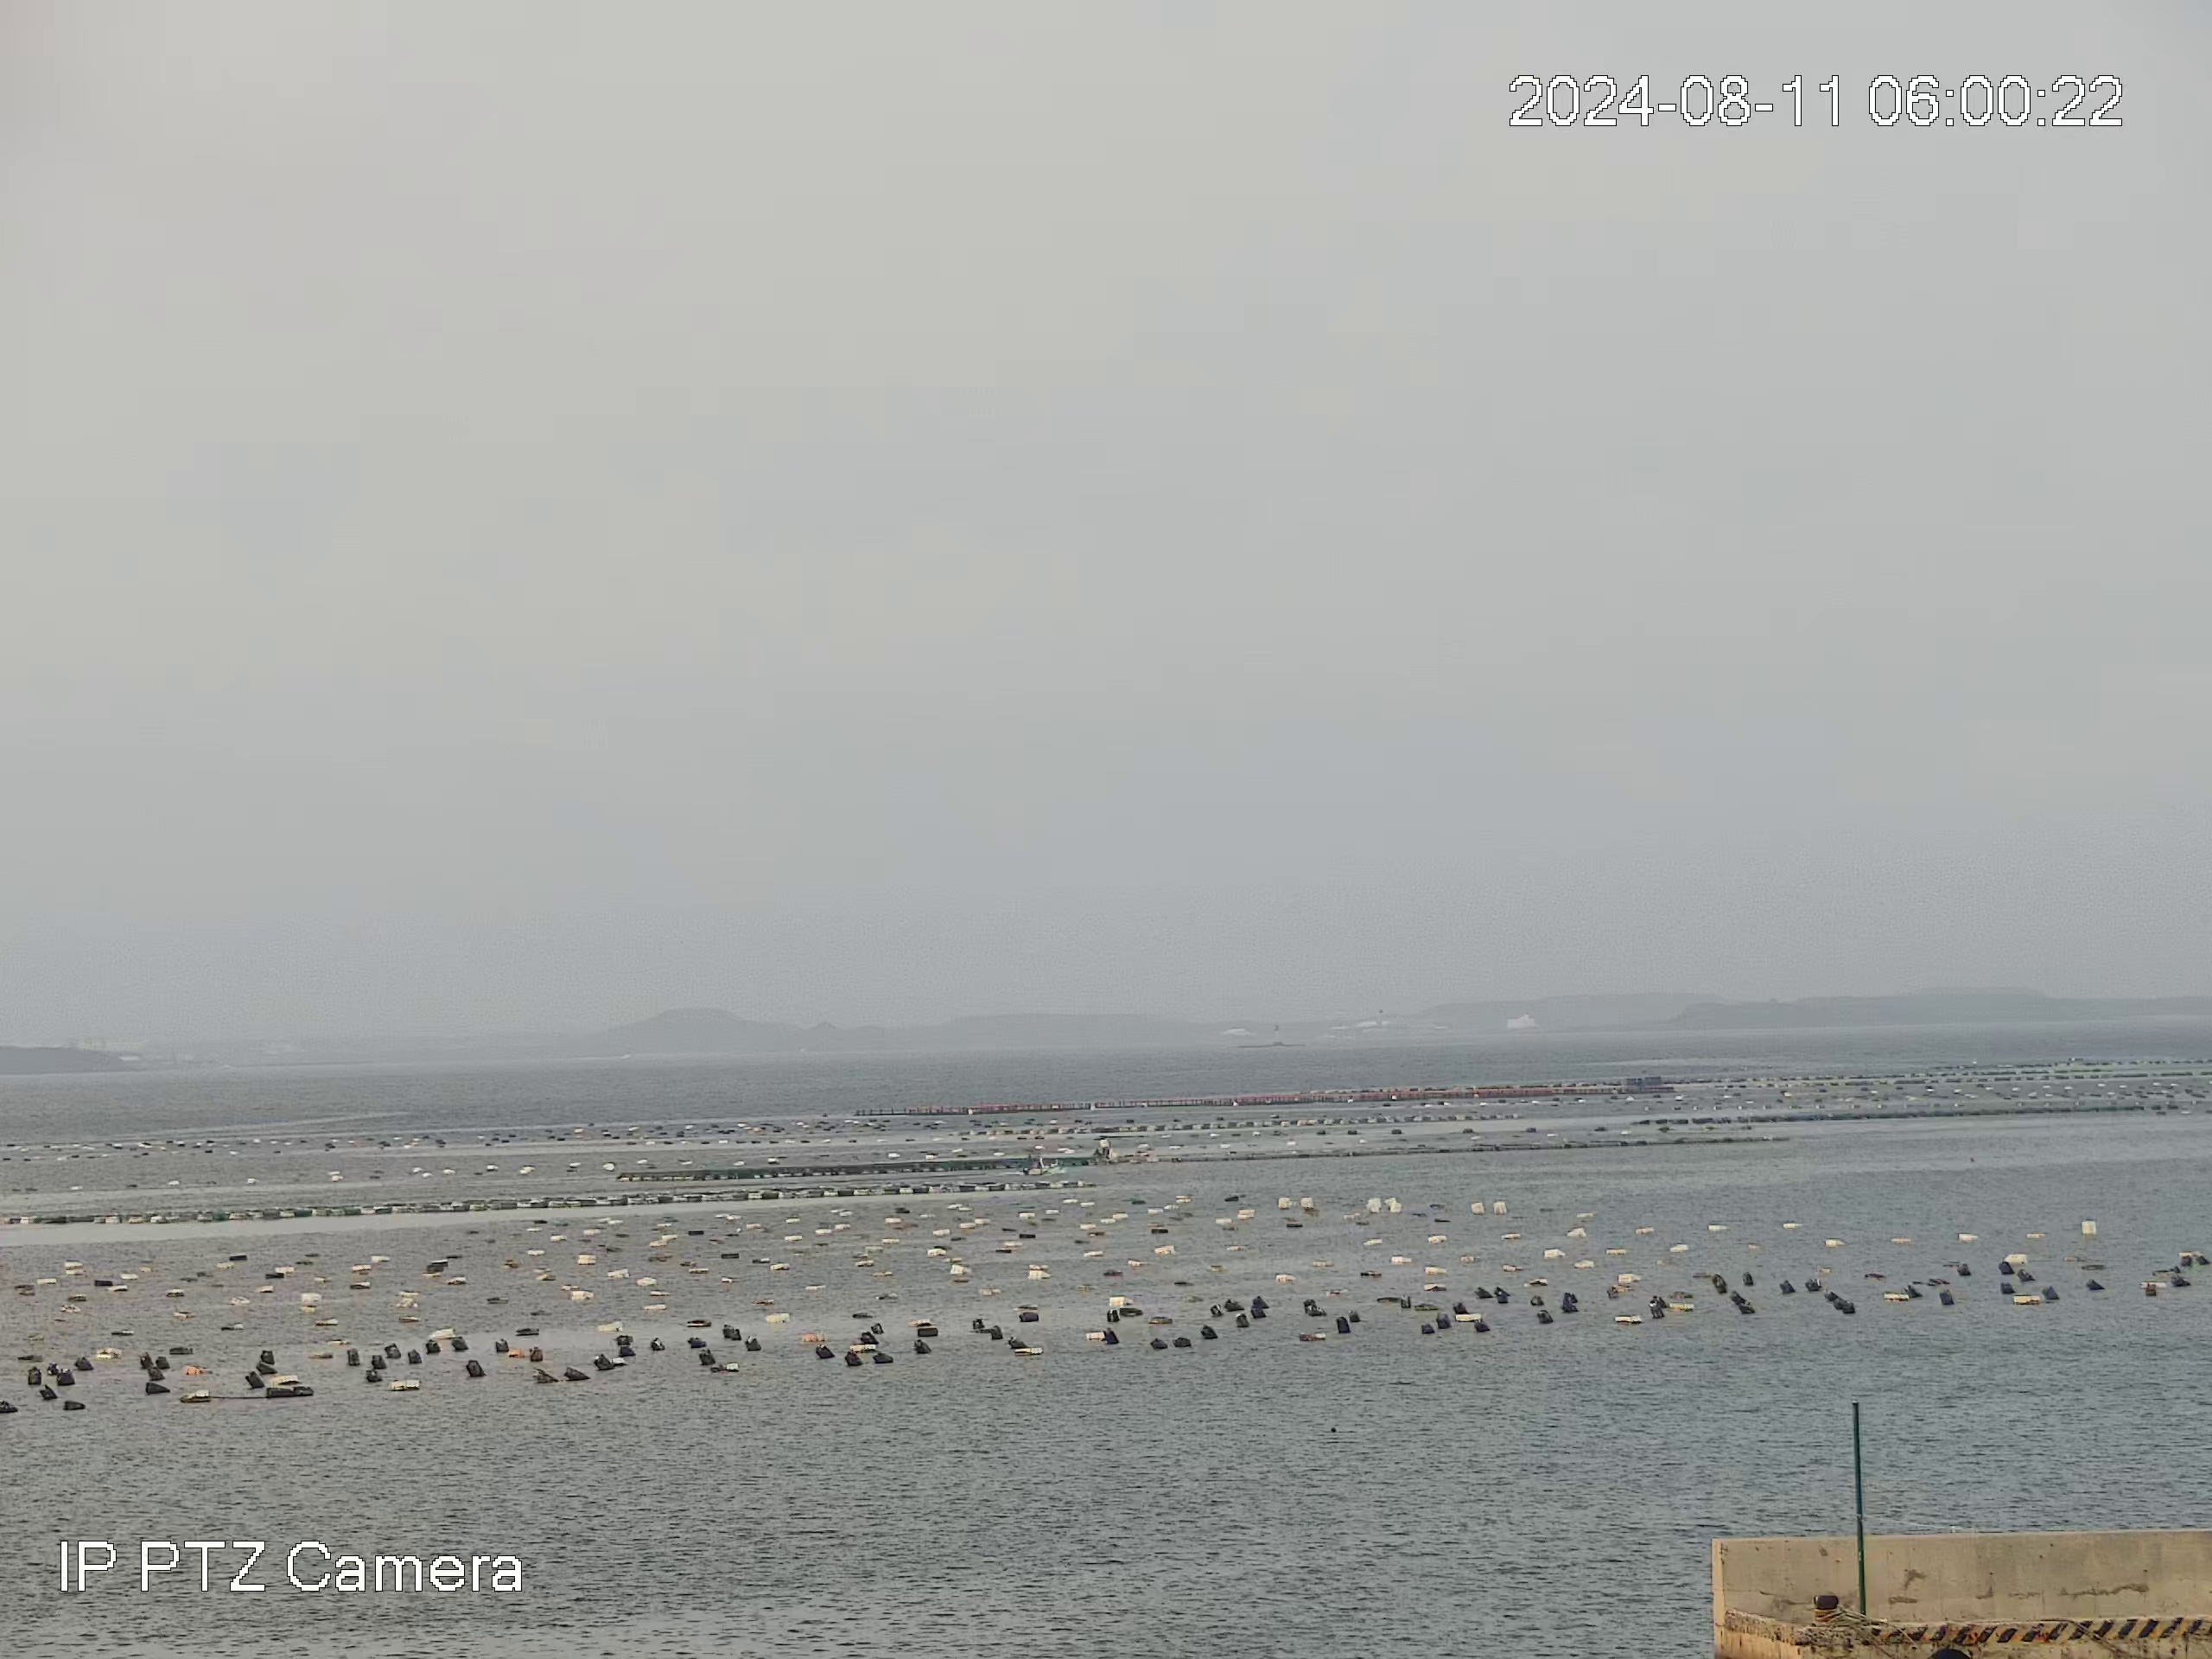boat: (1020, 1144, 1065, 1176)
